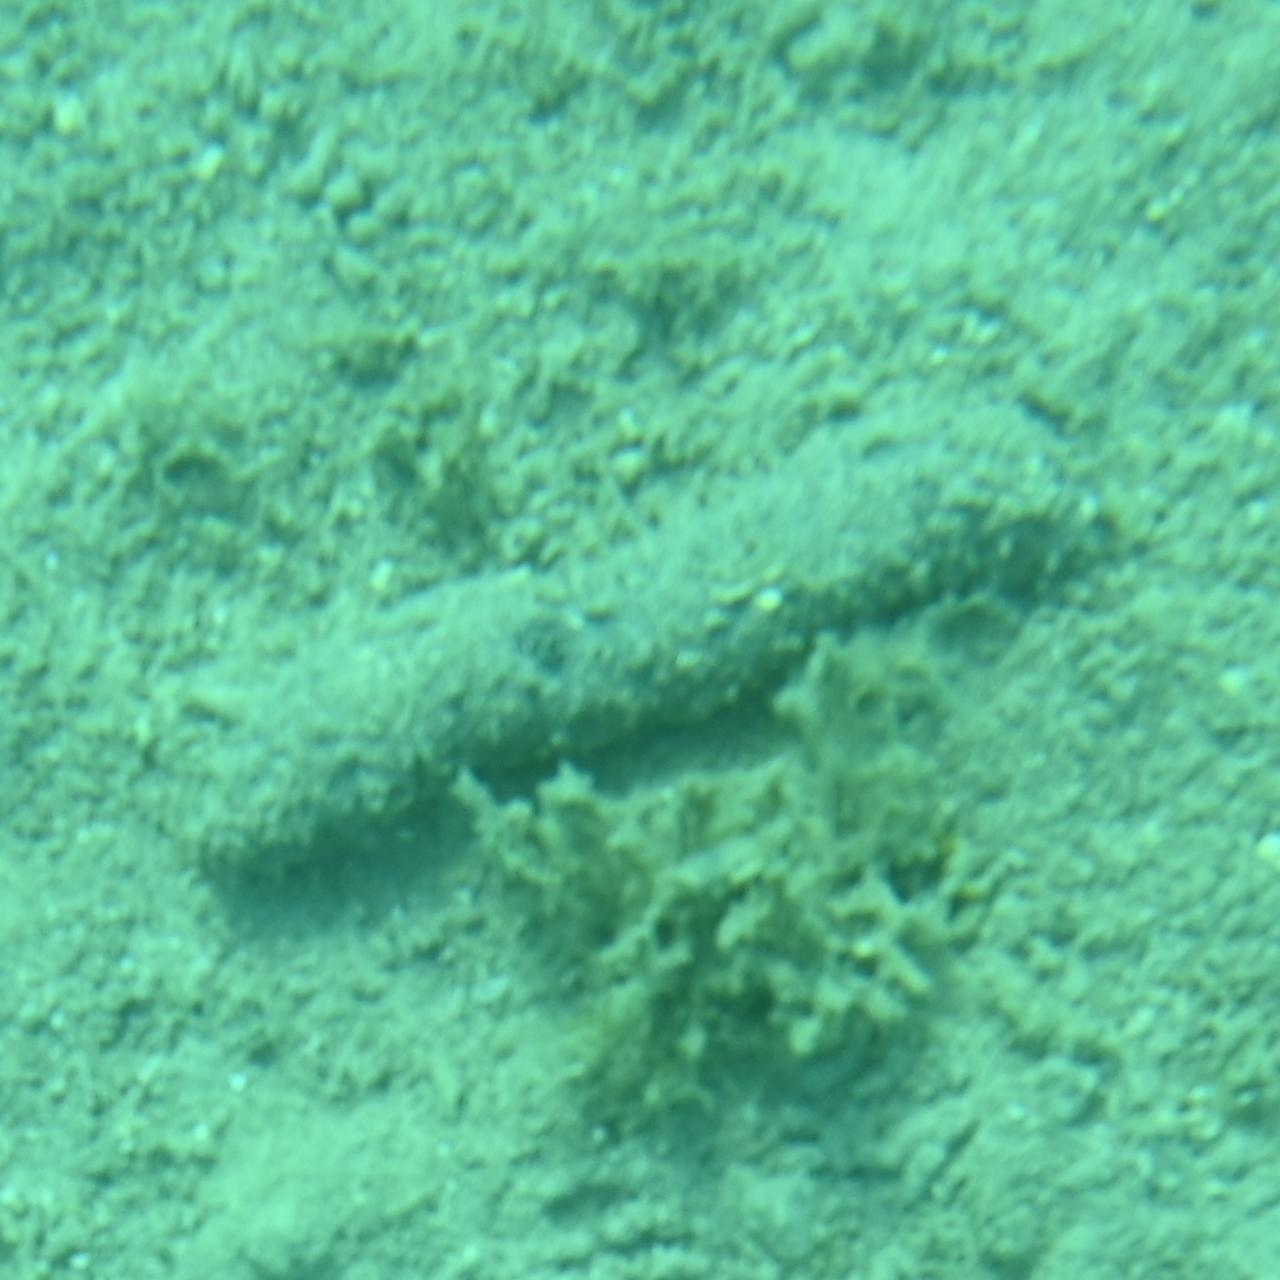Holothuria tubulosa: (142, 381, 1138, 899)
